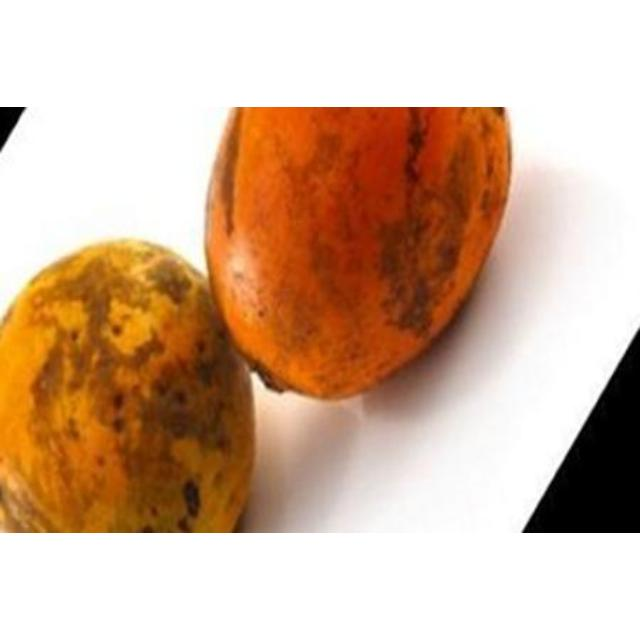good: (203, 107, 513, 403), (0, 239, 257, 532)
